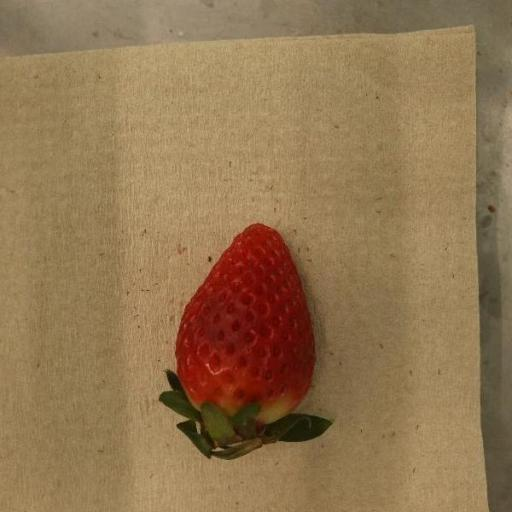Strawberry: (159, 223, 333, 462)
